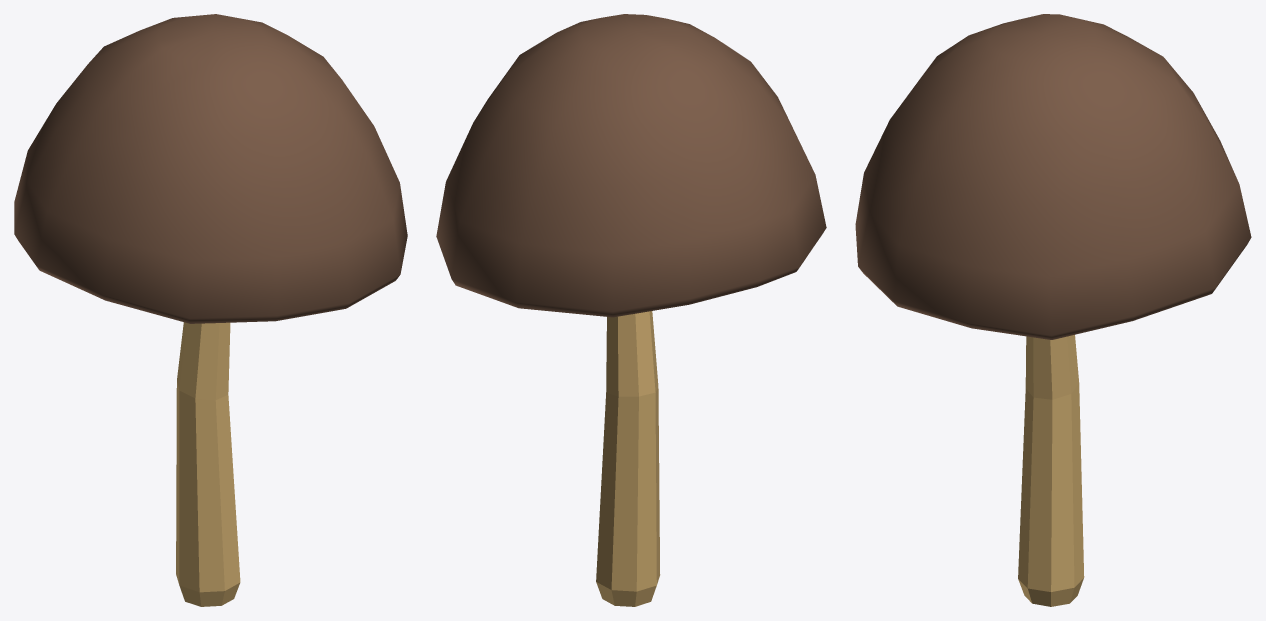
File: mushroom.04.glb
3 renders of one model, left to right at view 1: azimuth 30°, elevation 25°; view 2: azimuth 150°, elevation 25°; view 3: azimuth 270°, elevation 25°, orthographic.
Visible parts, largest first — view 1: Cylinder.011; view 2: Cylinder.011; view 3: Cylinder.011.
Part boxes in pixels (x1,y1,x2,y2): Cylinder.011: [14, 14, 407, 606]; Cylinder.011: [436, 14, 826, 606]; Cylinder.011: [855, 14, 1251, 606].
Size of the model in its own units: 0.0678 by 0.1054 by 0.0673.
Materials: 1 (1 with a texture image).
